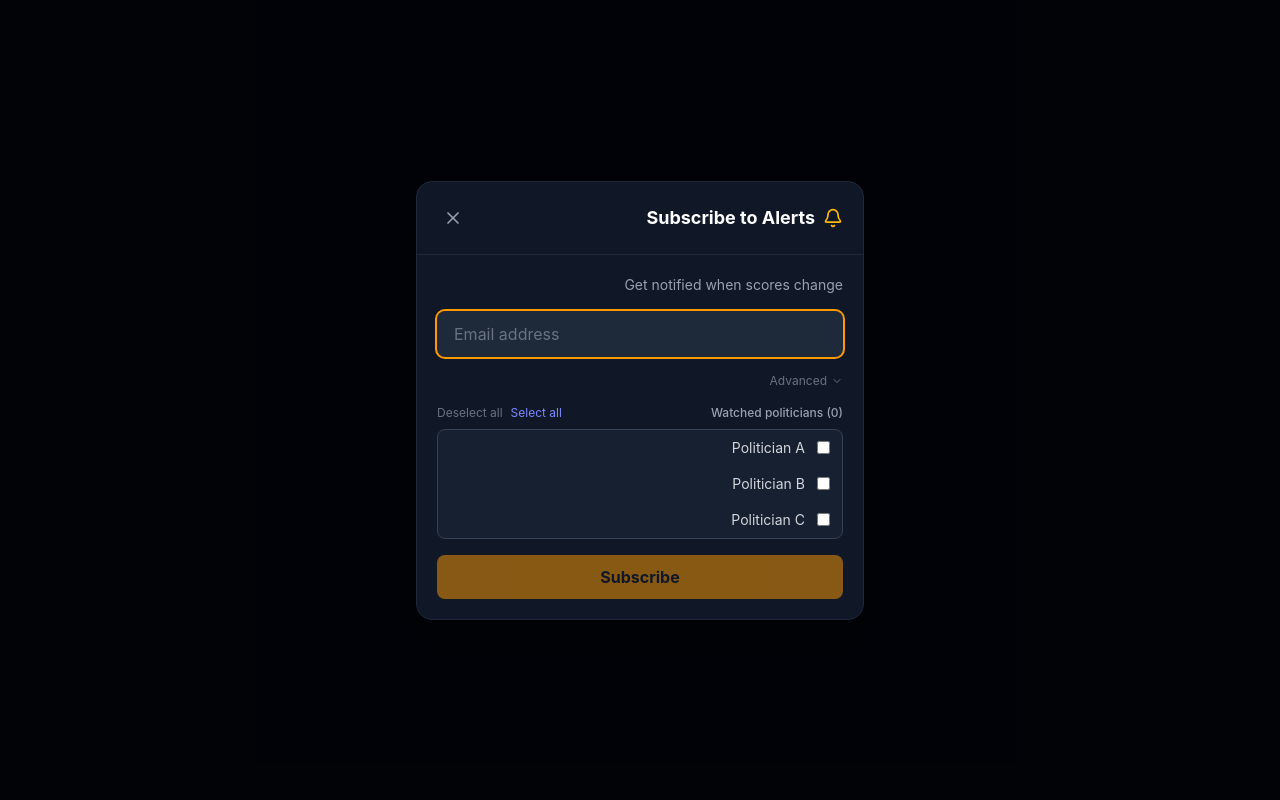
Scenario: AlertSubscriptionModal › toggles advanced section to show webhook input
Expected: the field with placeholder "Webhook URL (optional)" is not shown
What coordinates should you click on to do the following:
click the button "Advanced"
I would click on:
 (806, 380)
Its box is [770,372,843,388].
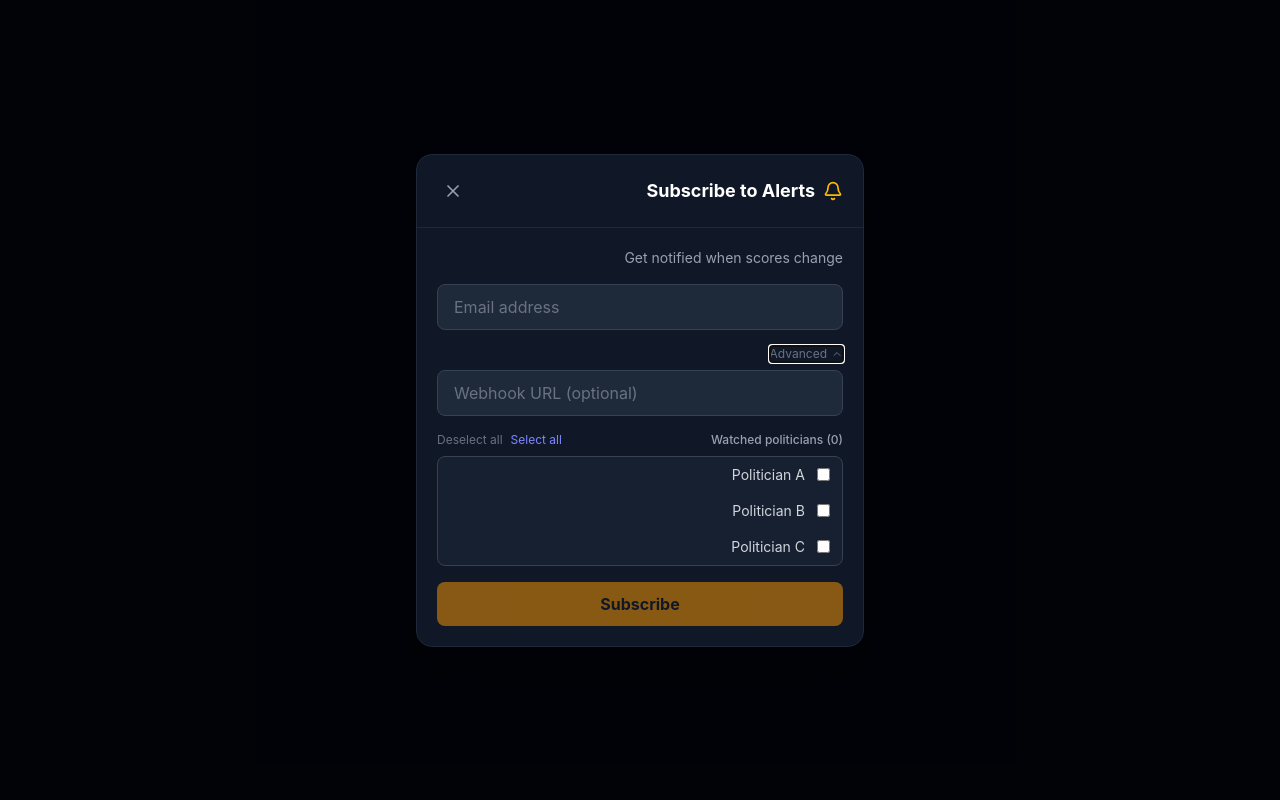
Expected: the field with placeholder "Webhook URL (optional)" is shown, [437,370,843,416]
